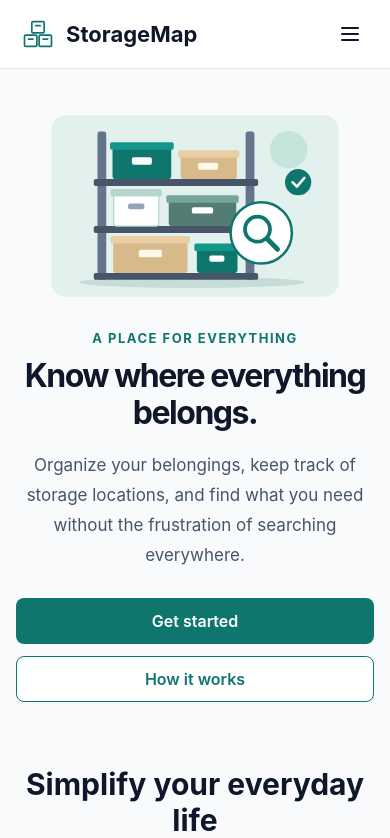
Test case: toggles the mobile navigation menu
Click the button named "Open menu".
click(350, 34)  # box [330,14,370,54]
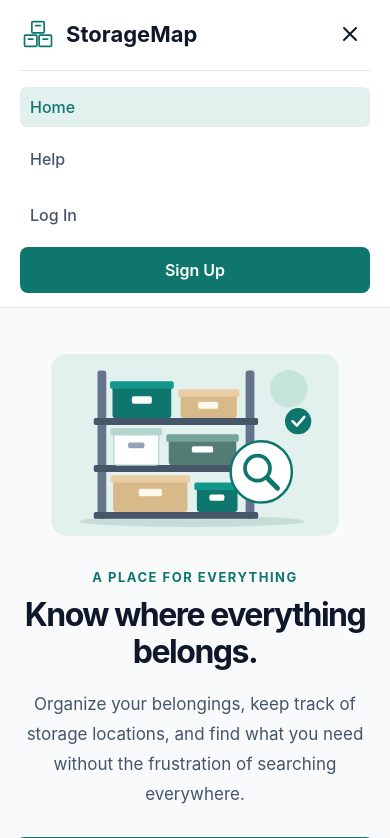
Now the button named "Open menu" is expanded
Click the button named "Open menu".
click(350, 34)  # box [330,14,370,54]
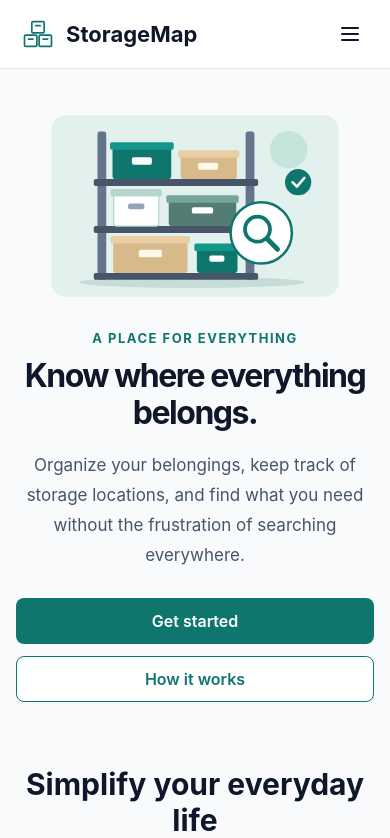
Now the button named "Open menu" is collapsed, box [330,14,370,54]
